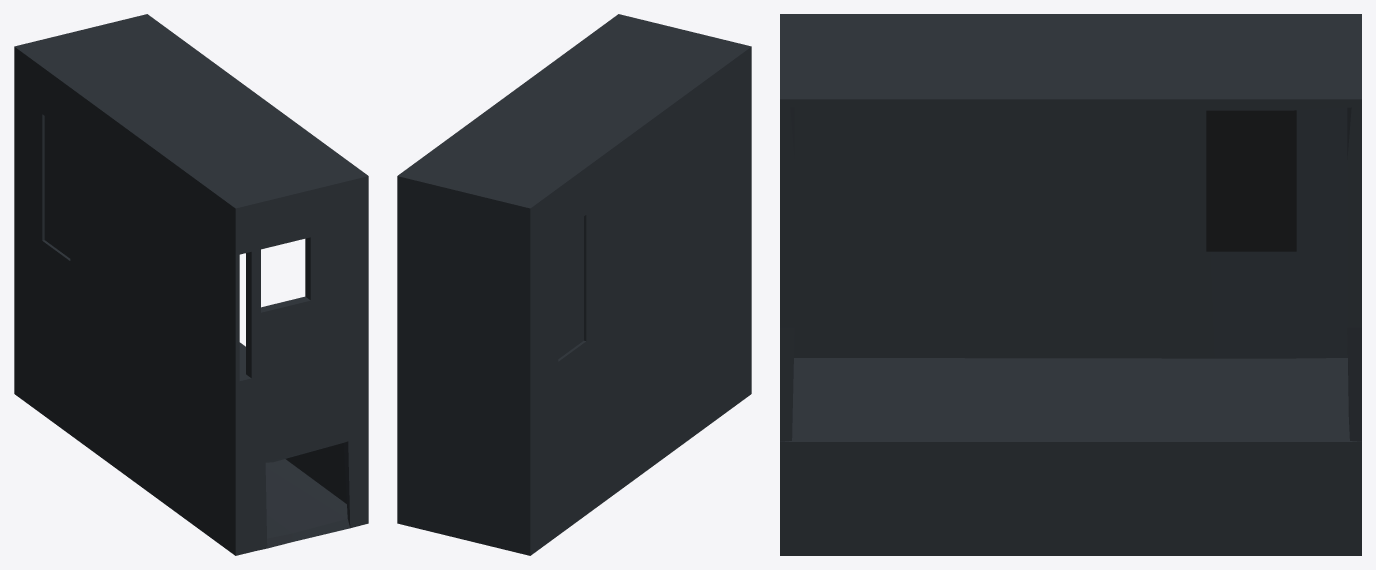
Rendered from case.fbx.
The picture shows the model from 3 angles, left to right: view 1: azimuth 30°, elevation 25°; view 2: azimuth 150°, elevation 25°; view 3: azimuth 270°, elevation 25°; orthographic projection. The views are drawn at different scales.
Visible parts, largest first — view 1: Cube; view 2: Cube; view 3: Cube.
Part boxes in pixels (left/top/right/bottom): Cube: left=14, top=14, right=368, bottom=555; Cube: left=397, top=14, right=751, bottom=555; Cube: left=780, top=14, right=1361, bottom=555.
Bounding box in the file's own units: 80.21 × 200 × 231.
